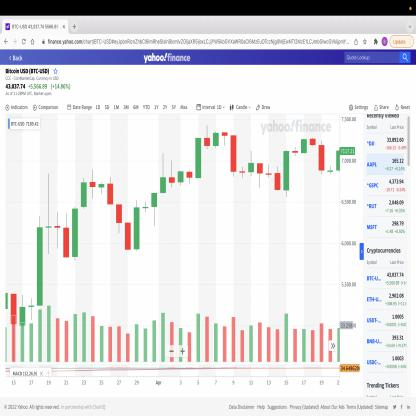Bullish Tweezer Bottom: (62, 204, 79, 262), (273, 146, 291, 200), (124, 198, 141, 253)
